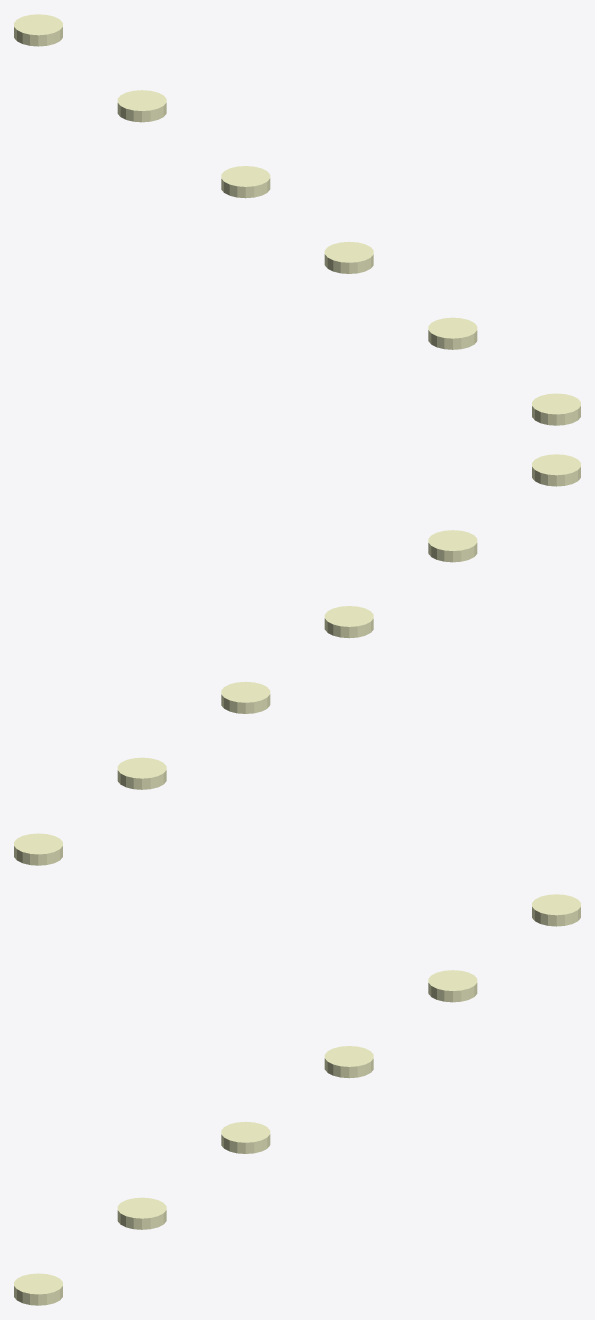
The model's file is marking_raised_marker_white.glb.
3 renders of one model, top to bottom at view 1: azimuth 30°, elevation 25°; view 2: azimuth 150°, elevation 25°; view 3: azimuth 330°, elevation 25°, orthographic.
Parts seen in each view (by area): view 1: marker_1, marker_4, marker_2, marker_3, marker_0, marker_5; view 2: marker_1, marker_4, marker_2, marker_3, marker_0, marker_5; view 3: marker_1, marker_4, marker_2, marker_3, marker_0, marker_5.
Part boxes in pixels (x1,y1,x2,y2): marker_1: (117, 90, 166, 122); marker_4: (428, 317, 477, 349); marker_2: (221, 166, 270, 198); marker_3: (324, 241, 373, 273); marker_0: (14, 14, 62, 46); marker_5: (532, 393, 580, 425); marker_1: (117, 757, 166, 789); marker_4: (428, 530, 477, 562); marker_2: (221, 681, 270, 713); marker_3: (324, 606, 373, 638); marker_0: (14, 833, 62, 865); marker_5: (532, 454, 580, 486); marker_1: (428, 970, 477, 1002); marker_4: (117, 1197, 166, 1229); marker_2: (324, 1046, 373, 1078); marker_3: (221, 1121, 270, 1153); marker_0: (532, 894, 580, 926); marker_5: (14, 1273, 62, 1305).
Bounding box in the file's own units: 0.12 × 0.03 × 2.62.
